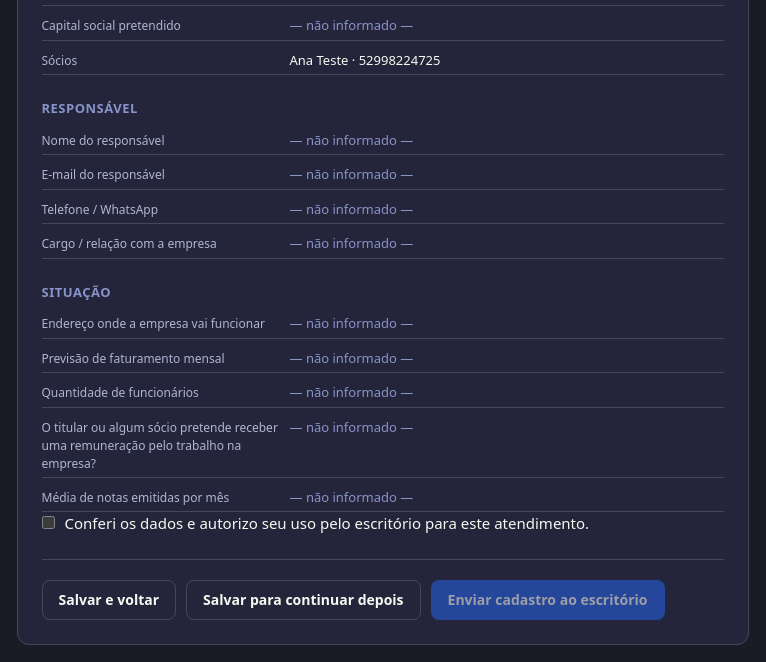
it: envio final exige conferência explícita e limpa token do endereço
This screenshot has width=766, height=662.
(page scrolled)
Expected: the button "Enviar cadastro ao escritório" is disabled, [431,580,665,620]
Click the checkbox.
click(48, 523)  # box [42,516,54,529]
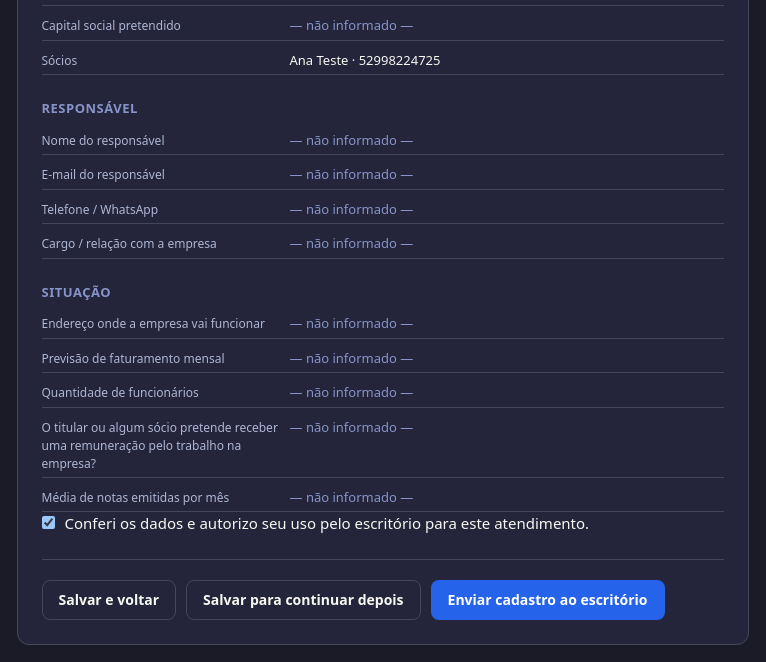
Click the button "Enviar cadastro ao escritório".
click(548, 600)  # box [431,580,665,620]
(page scrolled)
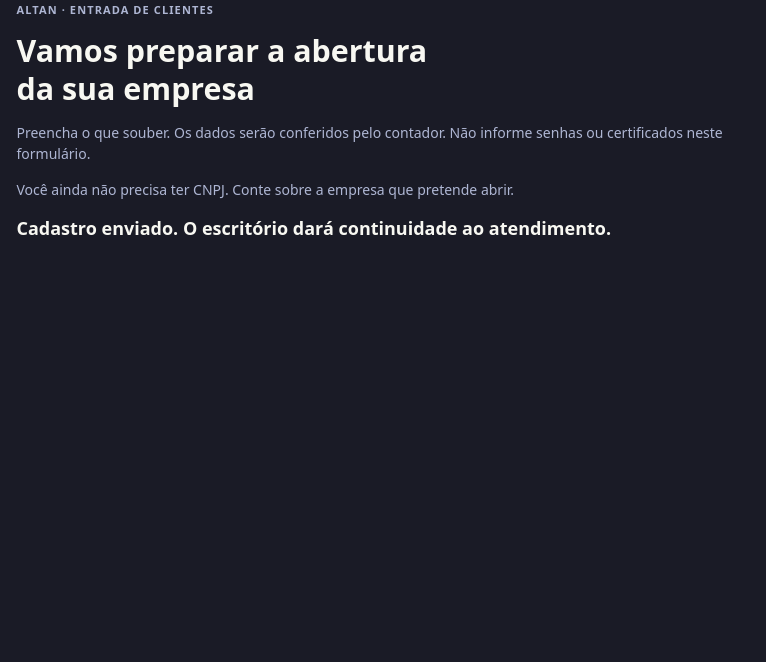
Now the heading "Cadastro enviado" is shown, box [16,216,611,240]
